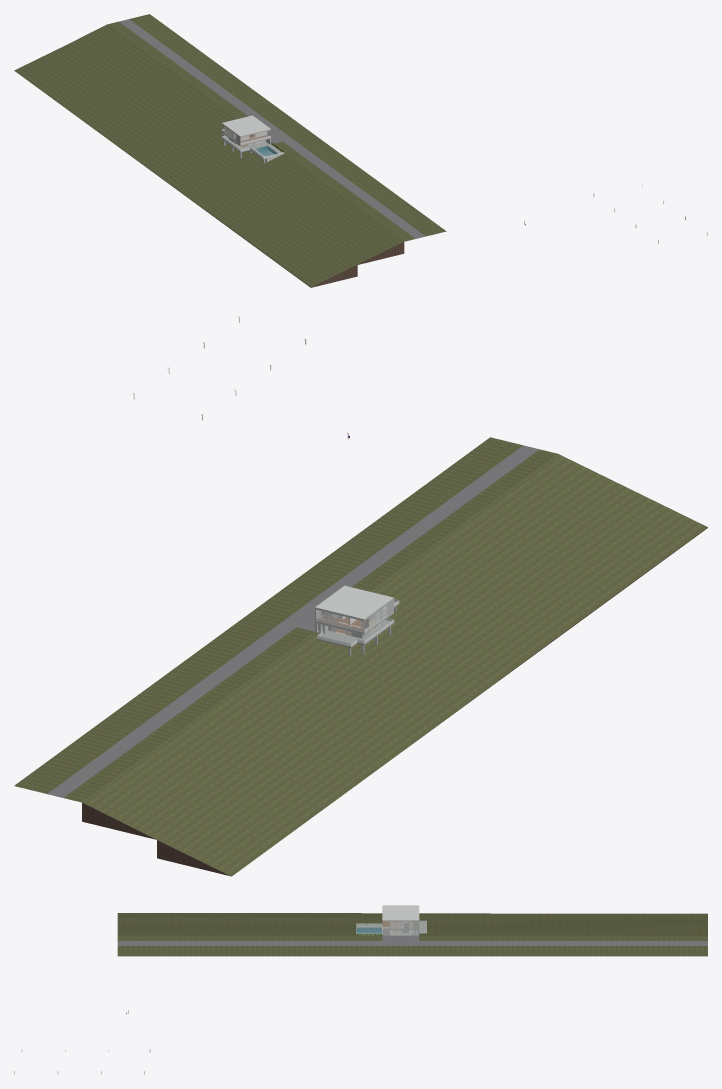
3 renders of one model, top to bottom at view 1: azimuth 30°, elevation 25°; view 2: azimuth 150°, elevation 25°; view 3: azimuth 270°, elevation 25°, orthographic. The views are drawn at different scales.
Visible parts, largest first — view 1: Mesh - 001_Grass_0 (×6), Slab - 003 (×4), Slab - 002, Mesh - 001_Soil_0; view 2: Mesh - 001_Grass_0 (×6), Slab - 003 (×4), Slab - 002; view 3: Slab - 003 (×5), Mesh - 001_Grass_0 (×6), Slab - 002.
Part boxes in pixels (box(x1,y1,x2,y2)): Mesh - 001_Grass_0 (×6): box(14, 24, 403, 286); Slab - 003 (×4): box(108, 14, 446, 241); Slab - 002: box(221, 115, 270, 137); Mesh - 001_Soil_0: box(212, 215, 357, 287); Mesh - 001_Grass_0 (×6): box(82, 454, 707, 876); Slab - 003 (×4): box(14, 437, 557, 802); Slab - 002: box(315, 585, 393, 621); Slab - 003 (×5): box(117, 922, 707, 956); Mesh - 001_Grass_0 (×6): box(117, 913, 707, 935); Slab - 002: box(382, 905, 419, 921).
Bounding box in the file's own units: 143 × 15.34 × 250.
Materials: 33 (21 with a texture image).
